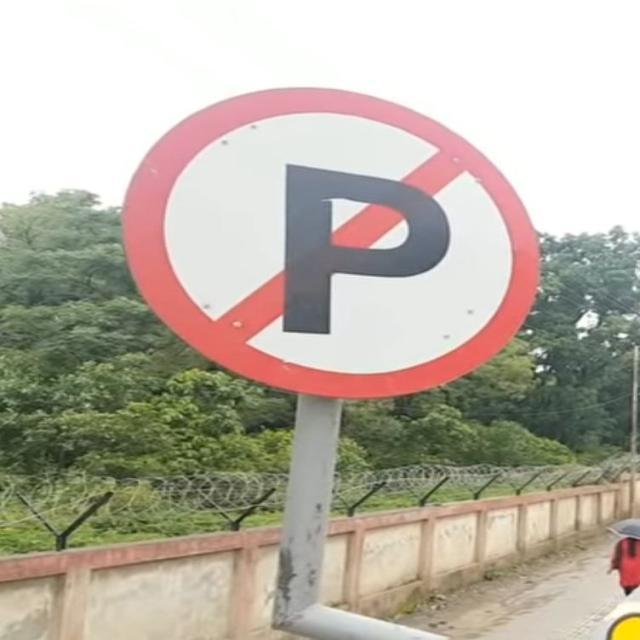no parking: (117, 83, 545, 408)
